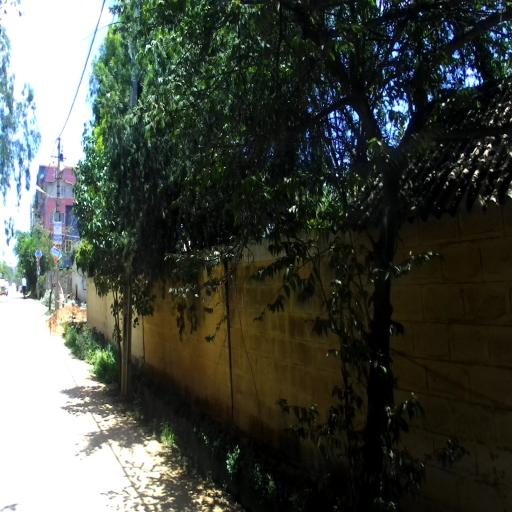street_light_0: (35, 185, 60, 213)
